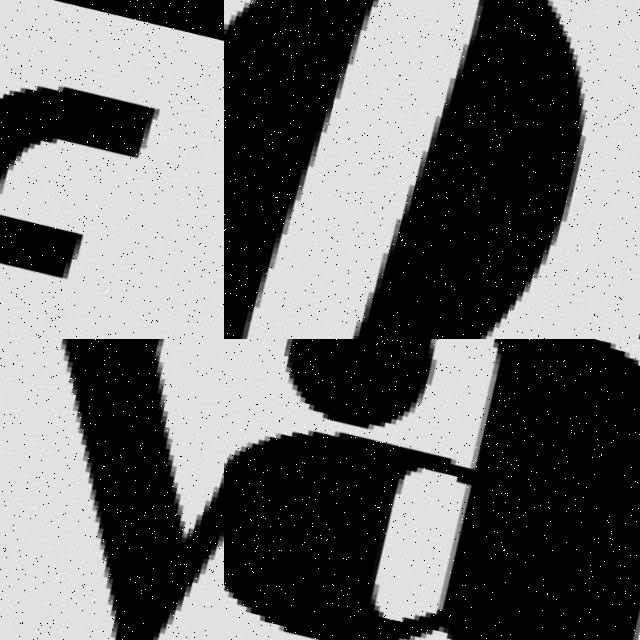A: (224, 339, 640, 640)
F: (0, 23, 184, 339)
O: (224, 0, 582, 339)
Y: (0, 339, 224, 640)
